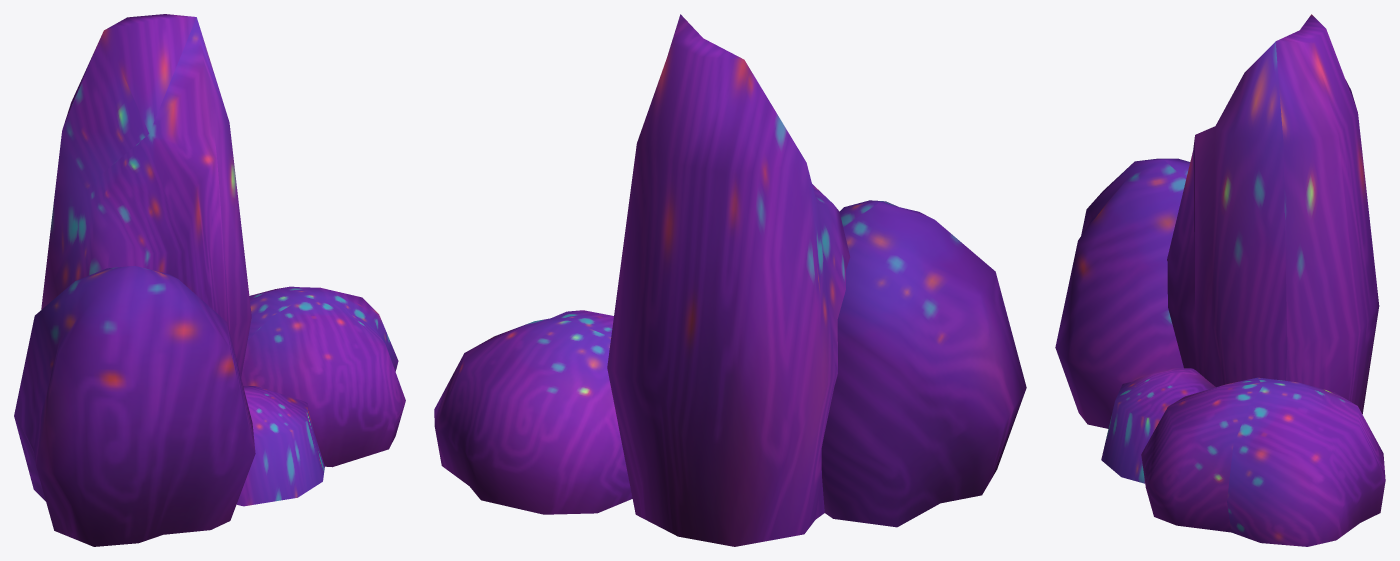
The model's file is DimRock_Purple_02.FBX.
3 views of the same model, side by side, from view 1: azimuth 30°, elevation 25°; view 2: azimuth 150°, elevation 25°; view 3: azimuth 270°, elevation 25° (orthographic). The views are drawn at different scales.
Parts seen in each view (by area): view 1: DimRock_Purple_02; view 2: DimRock_Purple_02; view 3: DimRock_Purple_02.
Part boxes in pixels (box(x1,y1,x2,y2)): DimRock_Purple_02: box(14, 14, 405, 546); DimRock_Purple_02: box(434, 14, 1026, 546); DimRock_Purple_02: box(1055, 14, 1385, 546).
Bounding box in the file's own units: 101 × 95.12 × 68.97.
